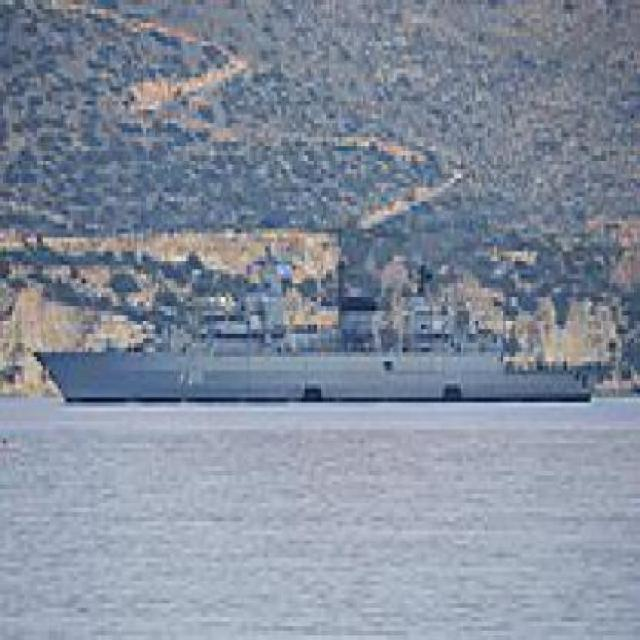warship2: (26, 193, 604, 427)
